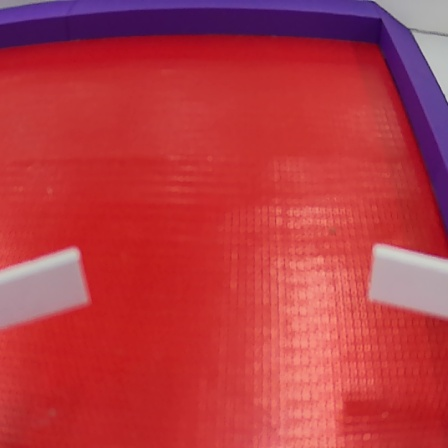red_aim: (0, 10, 446, 448)
